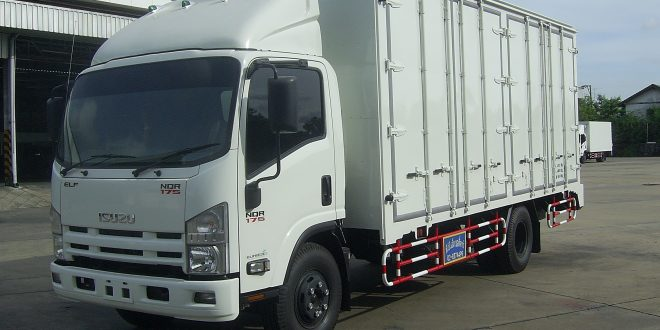truck: (51, 3, 419, 326)
